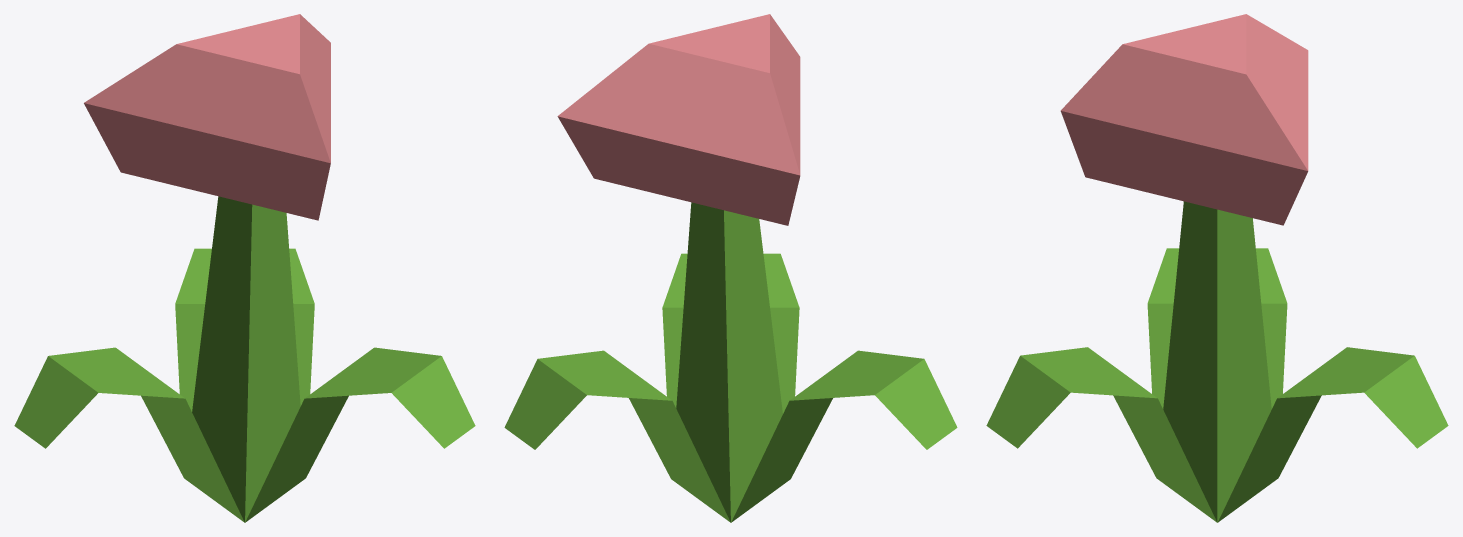
Rendered from flower_redB.glb.
3 renders of one model, left to right at view 1: azimuth 30°, elevation 25°; view 2: azimuth 150°, elevation 25°; view 3: azimuth 270°, elevation 25°, orthographic.
Parts seen in each view (by area): view 1: flower_redB; view 2: flower_redB; view 3: flower_redB.
Boxes of the visible parts, x1,y1,x2,y2 form: flower_redB: [14, 14, 475, 522]; flower_redB: [504, 14, 957, 522]; flower_redB: [986, 14, 1448, 522].
Bounding box in the file's own units: 0.2073 × 0.2585 × 0.2392.
